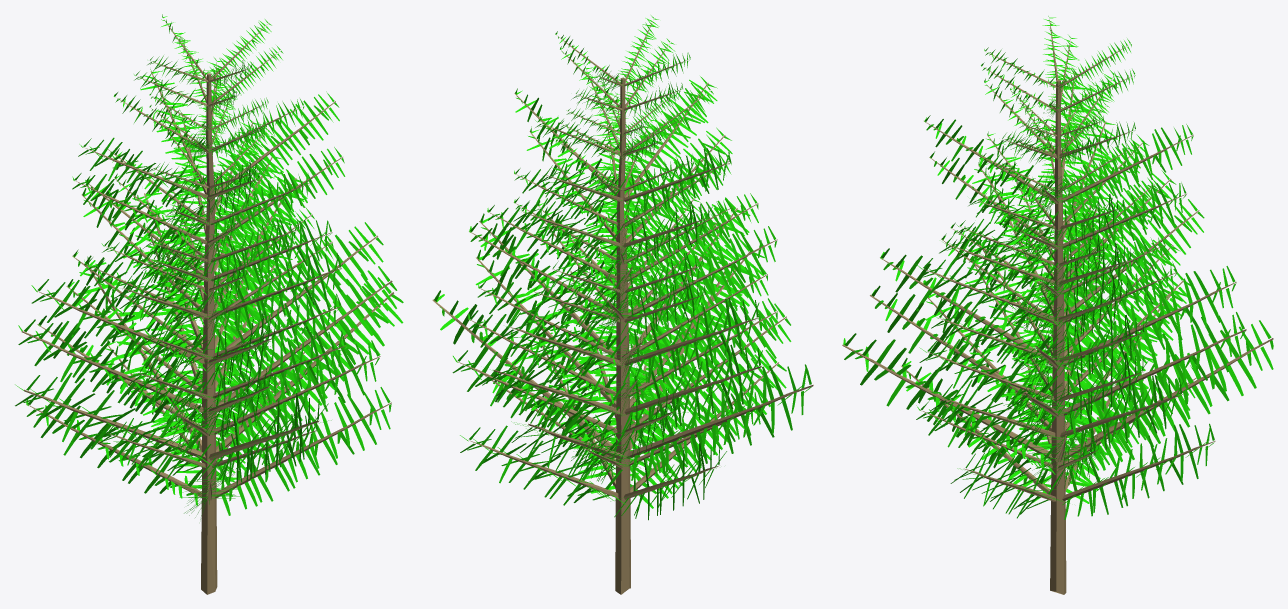
File: Giminospermas.fbx
3 views of the same model, side by side, from view 1: azimuth 30°, elevation 25°; view 2: azimuth 150°, elevation 25°; view 3: azimuth 270°, elevation 25° (orthographic).
Visible parts, largest first — view 1: Cylinder; view 2: Cylinder; view 3: Cylinder.
Part boxes in pixels (box(x1,y1,x2,y2)): Cylinder: box(15, 14, 403, 594); Cylinder: box(432, 15, 813, 594); Cylinder: box(842, 16, 1273, 594).
Bounding box in the file's own units: 287 × 404 × 287.
